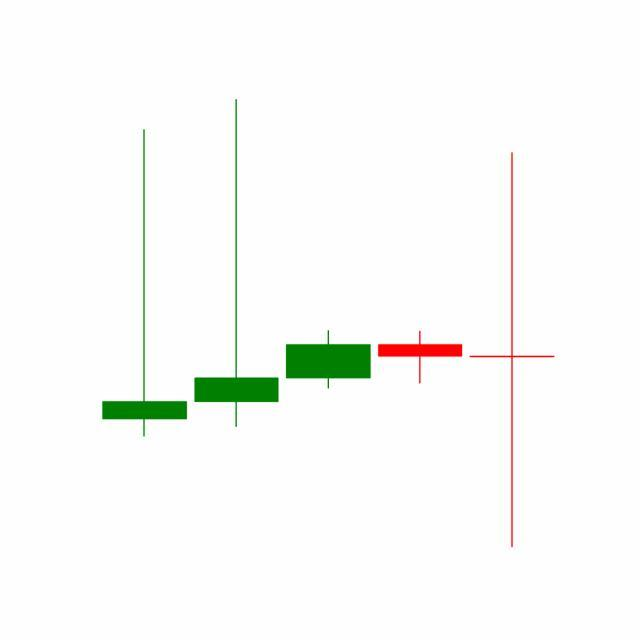Hanging Man: (374, 331, 468, 386)
